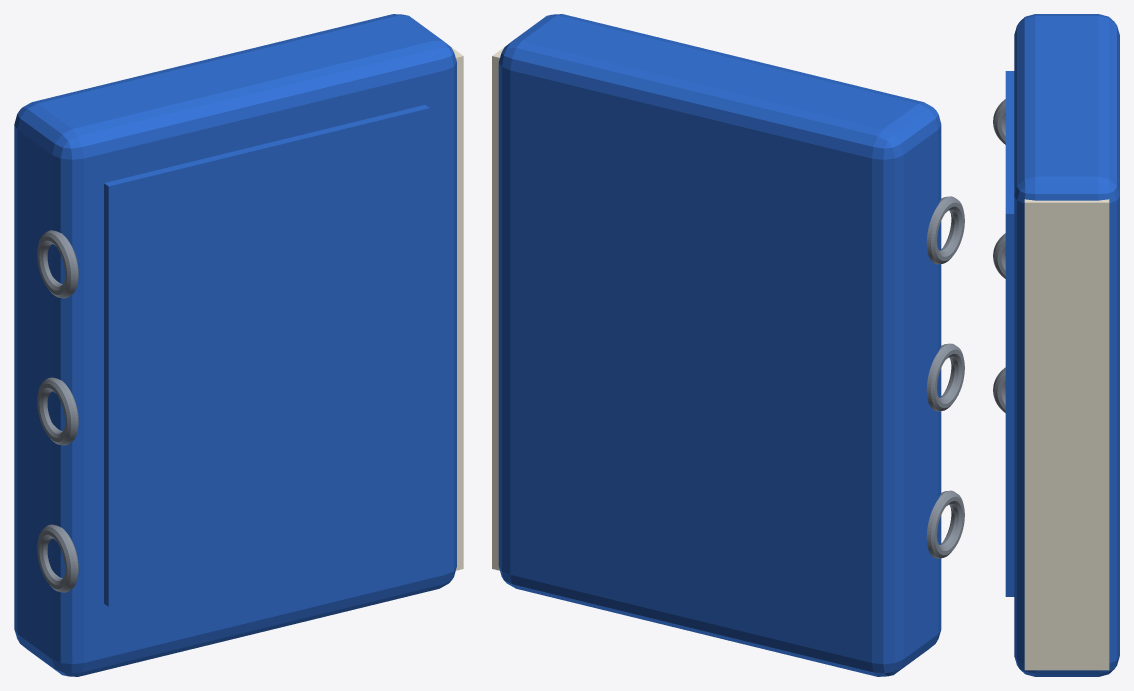
File: agenda.glb
The picture shows the model from 3 angles, left to right: view 1: azimuth 30°, elevation 25°; view 2: azimuth 150°, elevation 25°; view 3: azimuth 270°, elevation 25°; orthographic projection. The views are drawn at different scales.
Parts seen in each view (by area): view 1: portada, Cube, Cube.001, Torus.012, Torus.011, Torus.013; view 2: Cube, Cube.001, Torus.012, Torus.011, Torus.013; view 3: Cube.001, Cube, portada, Torus.012, Torus.013, Torus.011.
Part boxes in pixels (<box>): portada: <box>104,105,429,606</box>; Cube: <box>14,14,456,676</box>; Cube.001: <box>450,46,463,570</box>; Torus.012: <box>37,377,78,445</box>; Torus.011: <box>37,524,78,592</box>; Torus.013: <box>37,230,78,298</box>; Cube: <box>498,14,941,676</box>; Cube.001: <box>492,47,504,570</box>; Torus.012: <box>926,343,964,411</box>; Torus.011: <box>926,490,964,558</box>; Torus.013: <box>926,196,964,264</box>; Cube.001: <box>1024,199,1109,670</box>; Cube: <box>1014,14,1119,676</box>; portada: <box>1005,71,1014,596</box>; Torus.012: <box>993,233,1005,278</box>; Torus.013: <box>993,99,1005,144</box>; Torus.011: <box>993,367,1005,412</box>.
Size of the model in its own units: 1.02 by 1.3 by 0.3.
